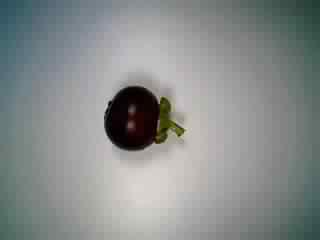mangosteen: (99, 78, 190, 152)
